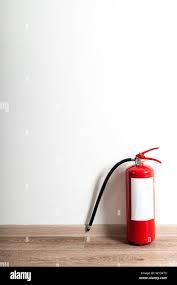floor-kept: (86, 141, 172, 258)
